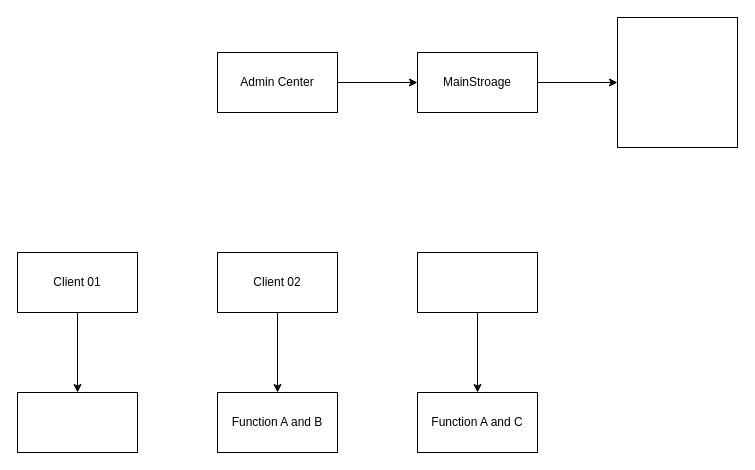
This 755x470 diagram has some shape labels left out. Here are the shapes that lost their labels. From the top down, the centre of each, then its label:
At point 677,82: "Function Repo ManageCenter".
At point 477,282: "Client 03".
At point 77,422: "Function A".
